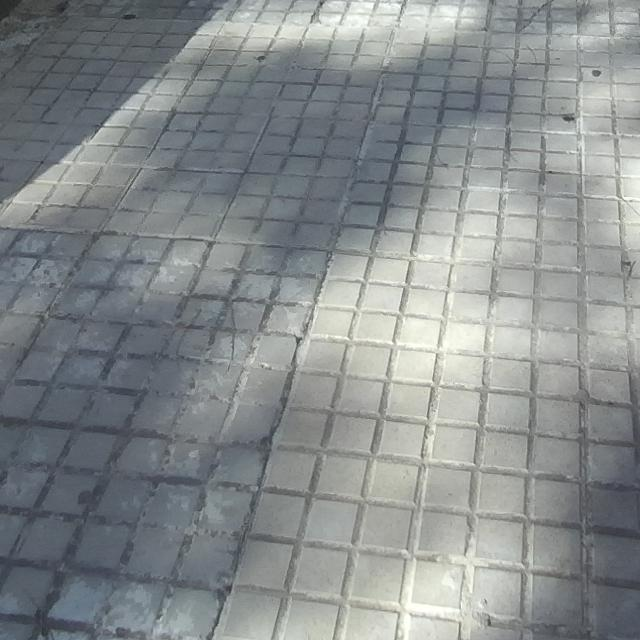calcada_quebrada: (507, 0, 559, 38)
